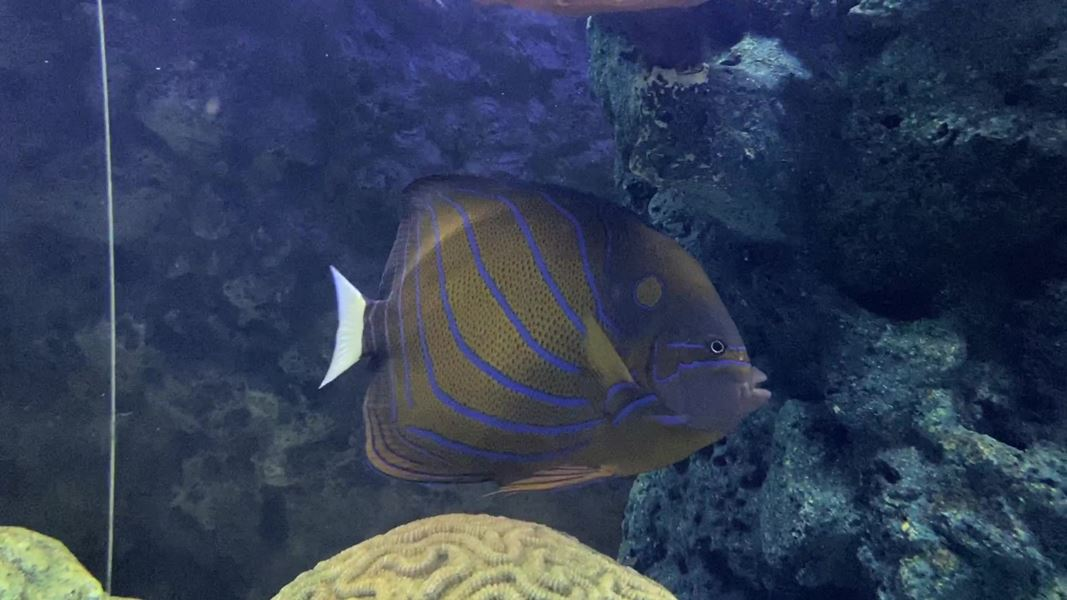Blue ring angelfish: (299, 156, 793, 511)
